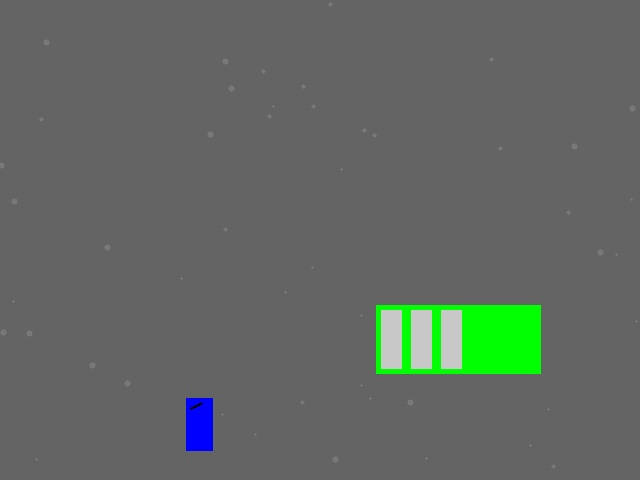bus: (376, 305, 540, 373)
motorcycle: (186, 398, 212, 450)
